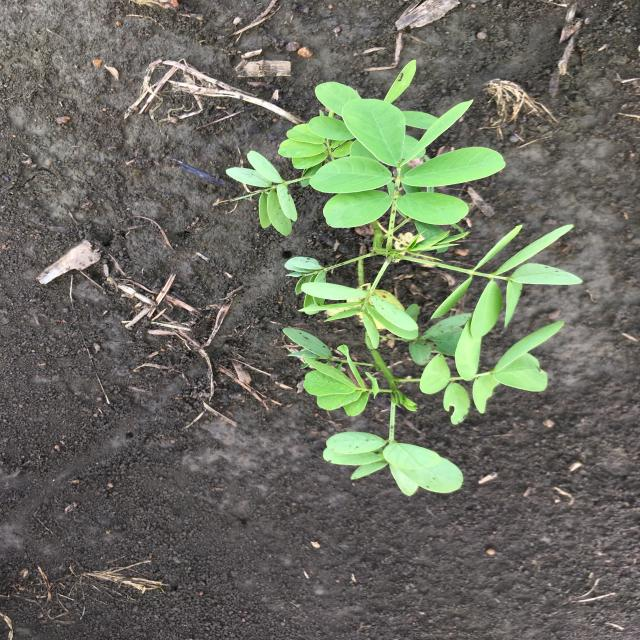Sicklepod: (211, 58, 585, 500)
